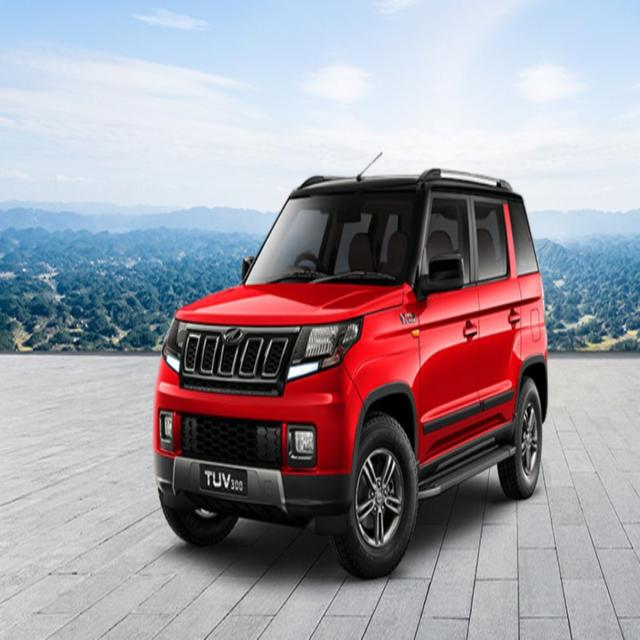light_vehicle: (155, 162, 547, 561)
